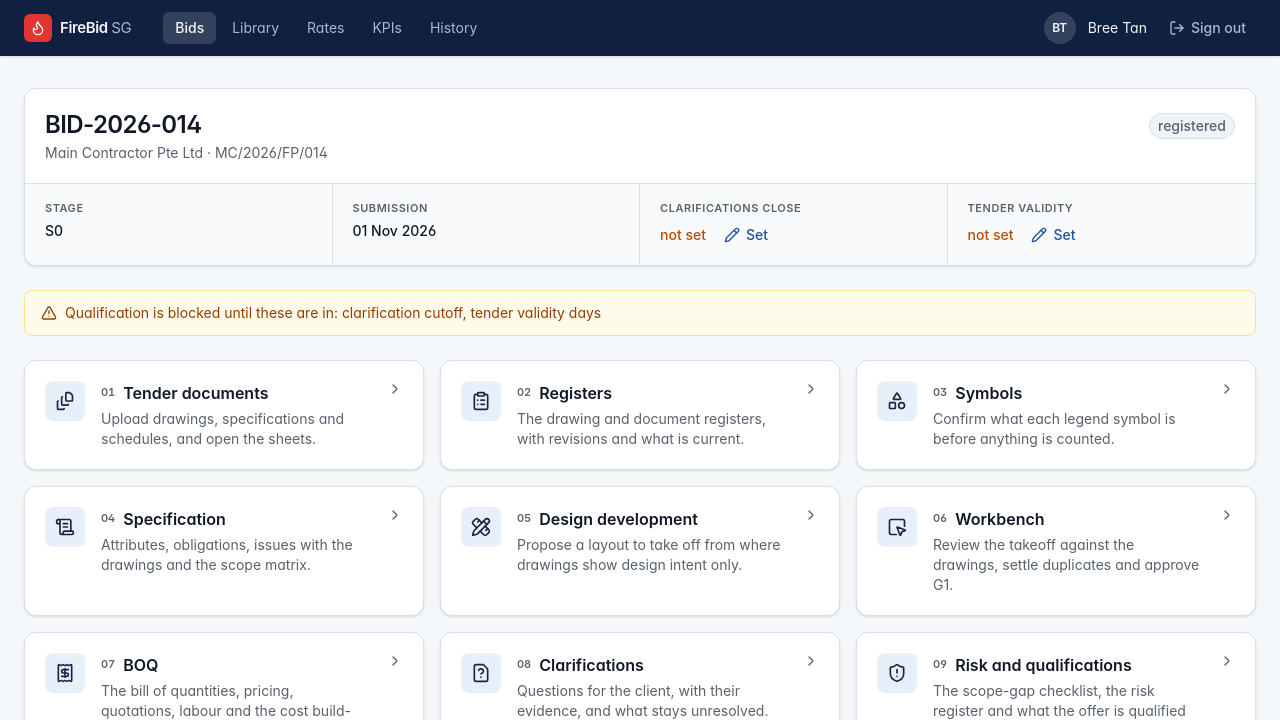
Test: a bid's page › sets the tender validity in place
This screenshot has width=1280, height=720.
Click the button with aria-label "Set tender validity".
click(1053, 234)  # box x1=1021 y1=220 x2=1085 y2=248
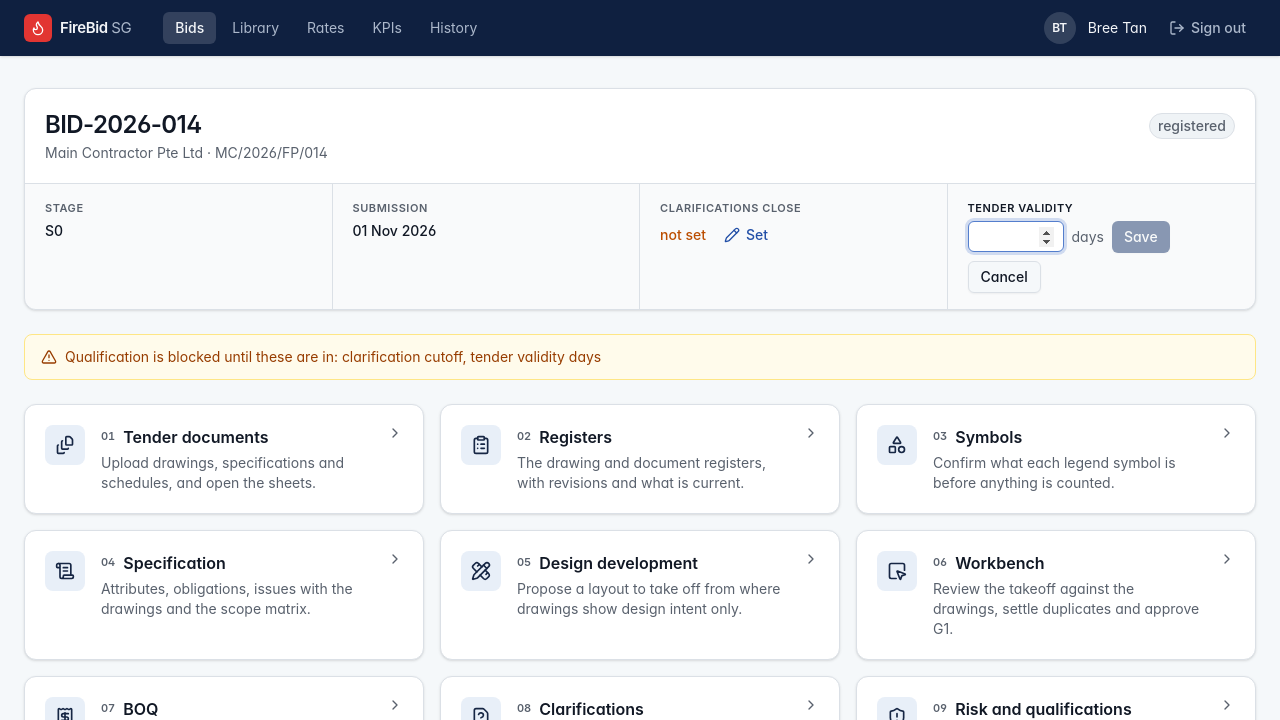
Type "90" into the number field labelled "Tender validity".
click(1016, 236); type("90")  # box x1=968 y1=221 x2=1064 y2=252
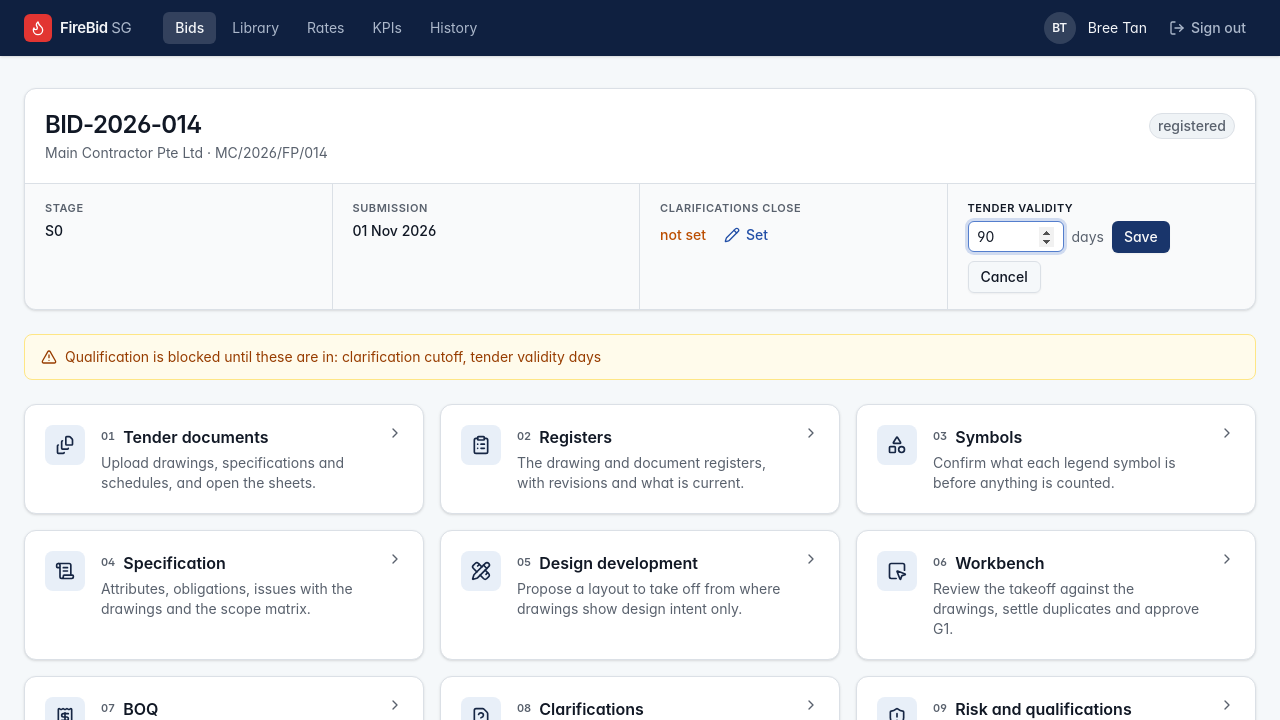
Click the button "Save".
click(1141, 236)  # box x1=1112 y1=220 x2=1170 y2=252
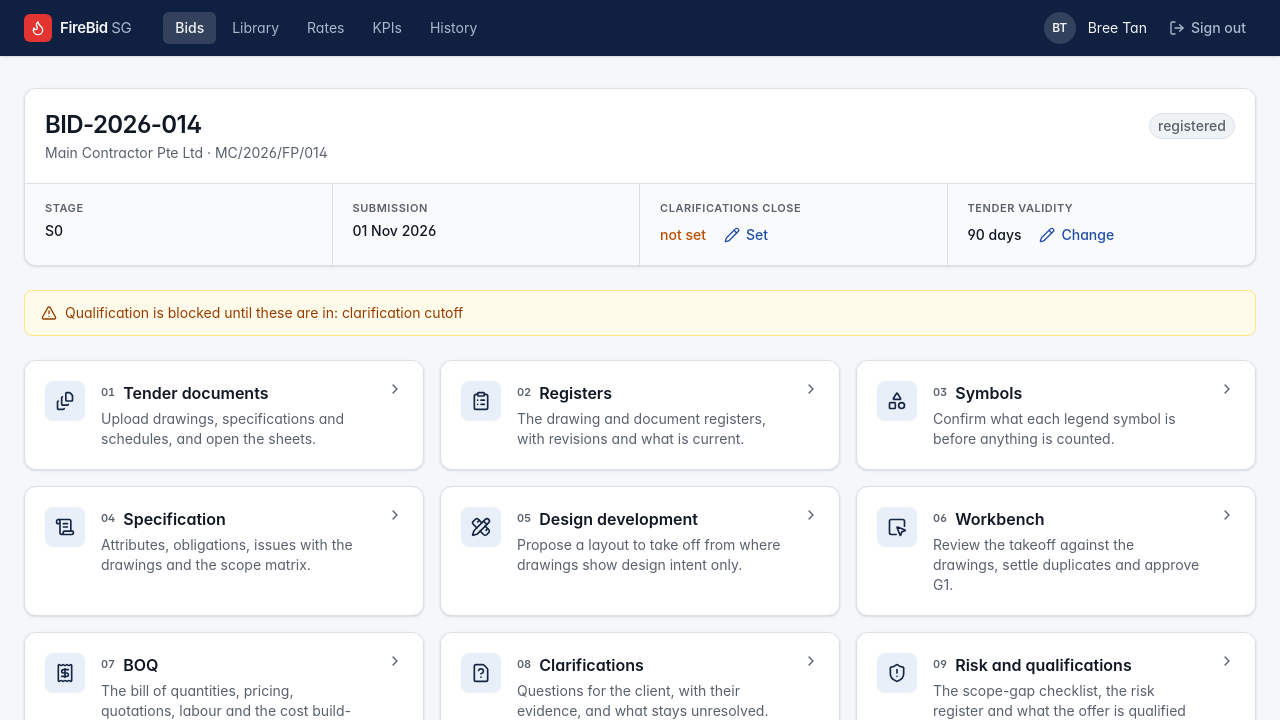
Now the text "90 days" is shown, box x1=968 y1=224 x2=1022 y2=244
Now the button with aria-label "Change tender validity" is shown, box x1=1030 y1=220 x2=1124 y2=248
Now the message reads "Qualification is blocked until these are in: clarification cutoff", box x1=24 y1=290 x2=1256 y2=336
